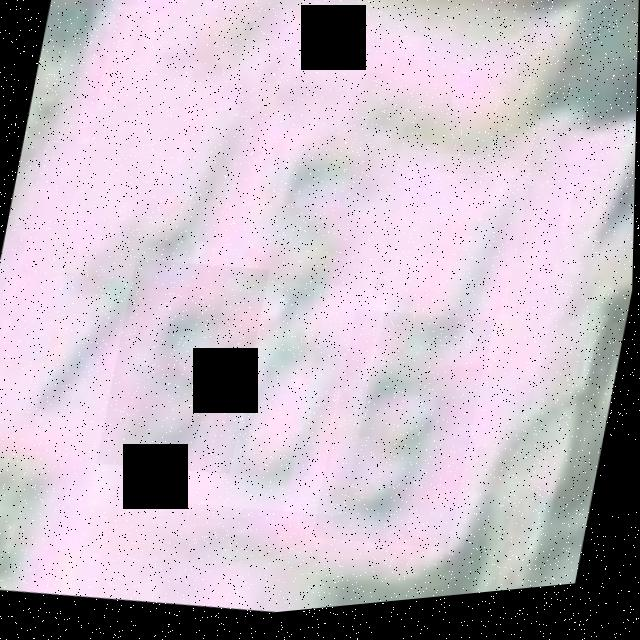0: (185, 270, 391, 535)
6: (0, 399, 130, 607)
9: (314, 306, 495, 568), (98, 251, 271, 489)
J: (373, 150, 535, 388), (87, 75, 256, 297)
